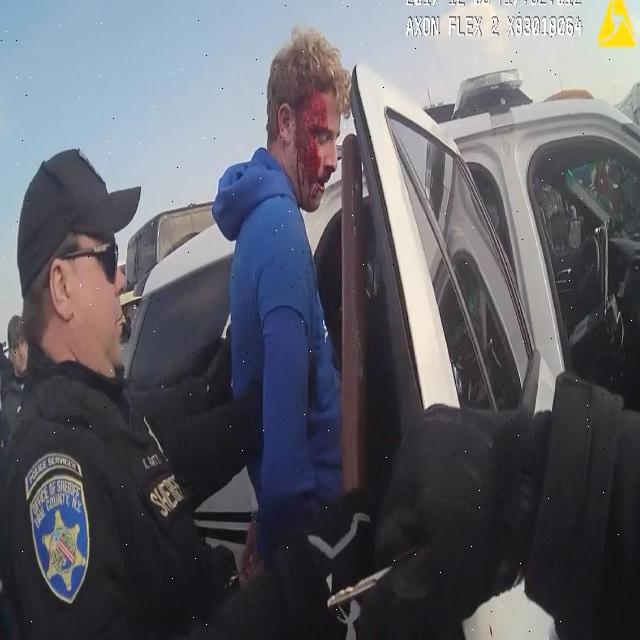police: (0, 123, 211, 640)
